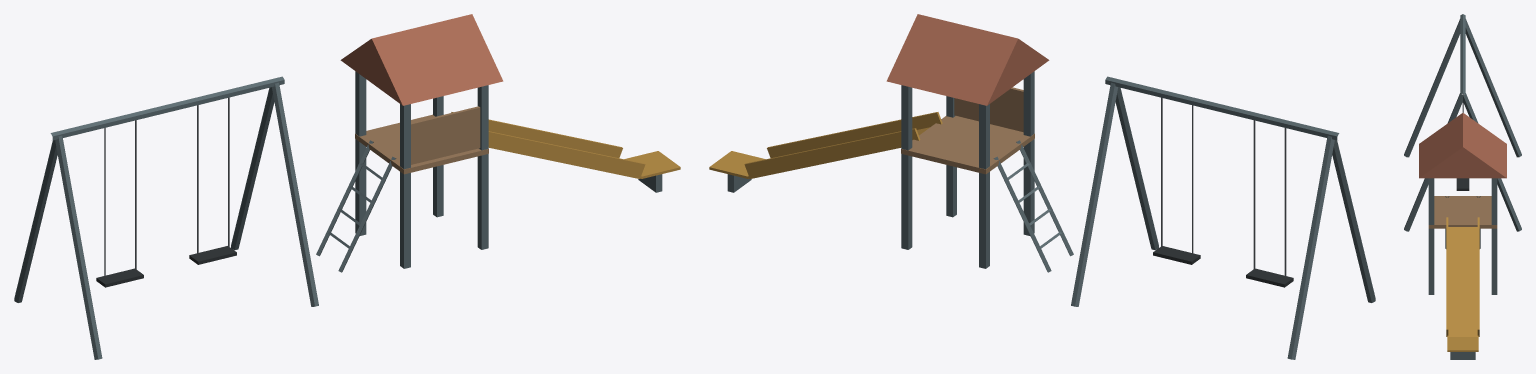
The model's file is playground-CPEcqu_L.glb.
3 renders of one model, left to right at view 1: azimuth 30°, elevation 25°; view 2: azimuth 150°, elevation 25°; view 3: azimuth 270°, elevation 25°, orthographic. The views are drawn at different scales.
Parts seen in each view (by area): view 1: playground; view 2: playground; view 3: playground.
Part boxes in pixels (<box>): playground: <box>14,14,680,359</box>; playground: <box>709,14,1375,359</box>; playground: <box>1404,14,1521,359</box>.
Size of the model in its own units: 8 by 2.67 by 1.88.
